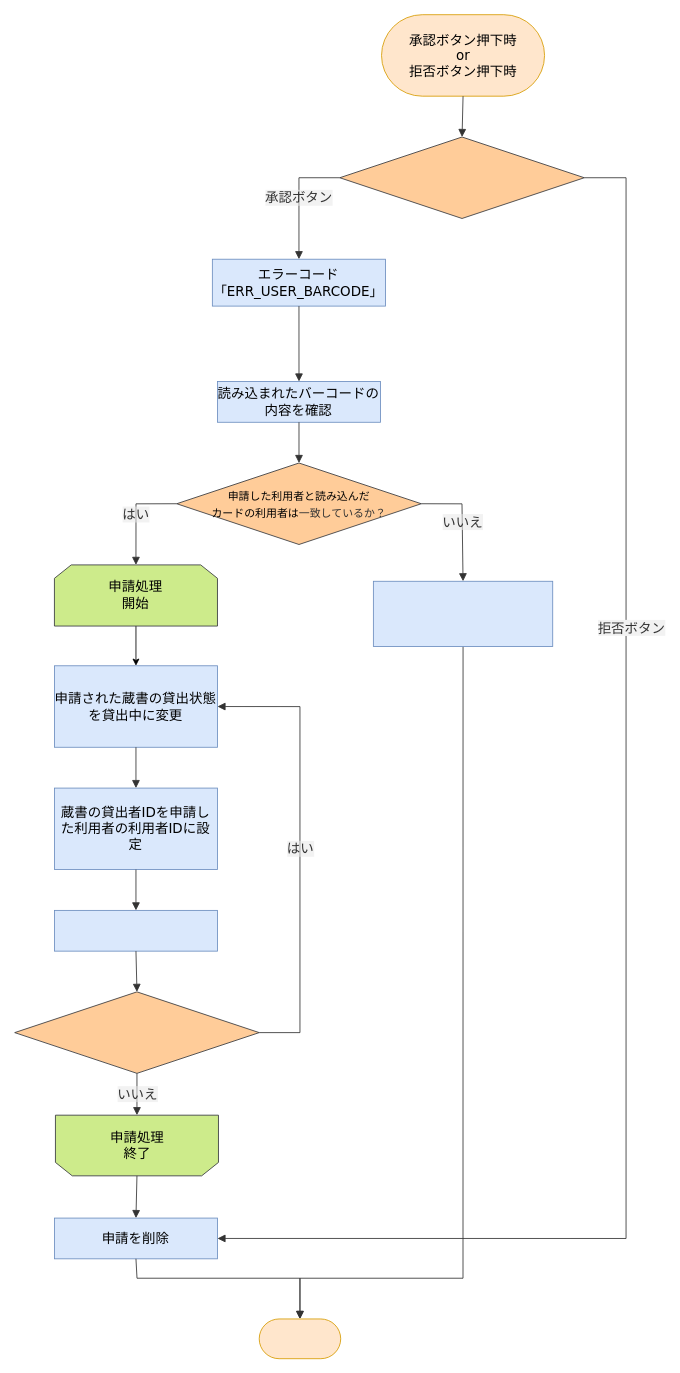
Some shapes in this 680 by 1373 pixel diagram are drawn without their labels. Each missing label, with the centre of its shape:
ほかに申請された 蔵書があるか？: [136,1032]
エラーコード「ERR_DIFFERENT_USER」: [463,613]
承認ボタン、拒否ボタンのどちらが押されたか？: [461,177]
終了: [299,1338]
貸出期限を設定: [135,930]
